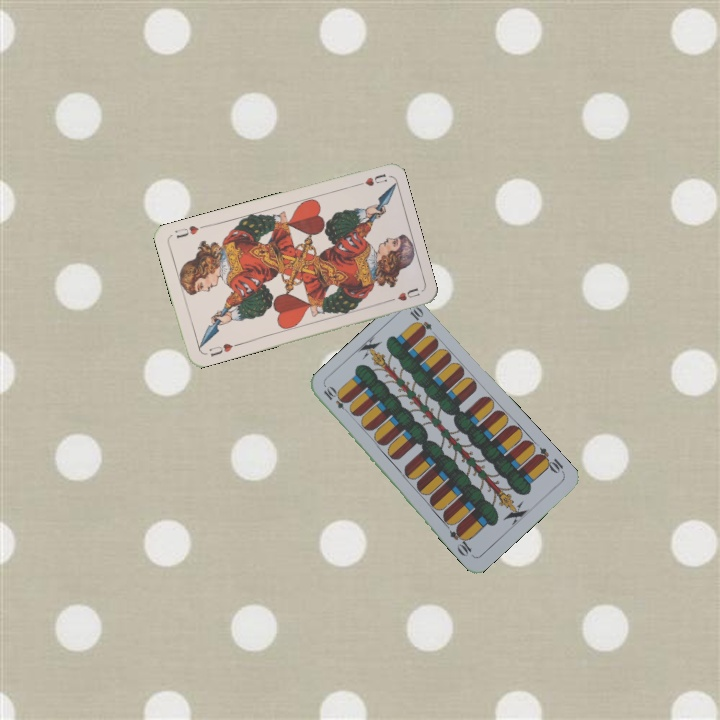E10: (531, 443, 567, 477), (319, 383, 353, 417)
HU: (350, 170, 390, 189), (205, 339, 241, 359)
